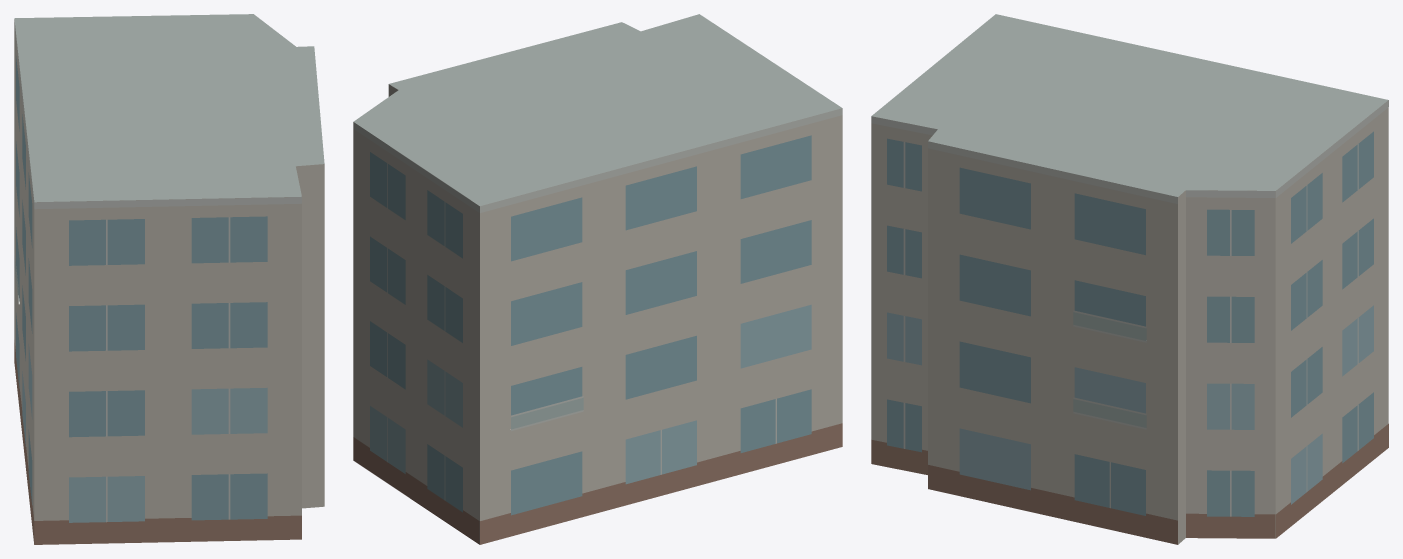
File: survey-upis-32733077.glb
3 views of the same model, side by side, from view 1: azimuth 30°, elevation 25°; view 2: azimuth 150°, elevation 25°; view 3: azimuth 270°, elevation 25° (orthographic). The views are drawn at different scales.
Visible parts, largest first — view 1: survey-upis-32733077.tmp; view 2: survey-upis-32733077.tmp; view 3: survey-upis-32733077.tmp.
Part boxes in pixels (x1,y1,x2,y2): survey-upis-32733077.tmp: [14, 14, 324, 544]; survey-upis-32733077.tmp: [353, 14, 842, 544]; survey-upis-32733077.tmp: [871, 14, 1388, 544].
Bounding box in the file's own units: 13.45 × 11.9 × 16.06.
